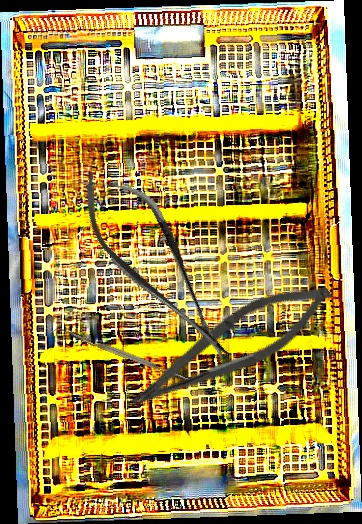Chopper: (49, 322, 194, 391)
Micro Scissor: (61, 151, 252, 380), (119, 261, 343, 435)
